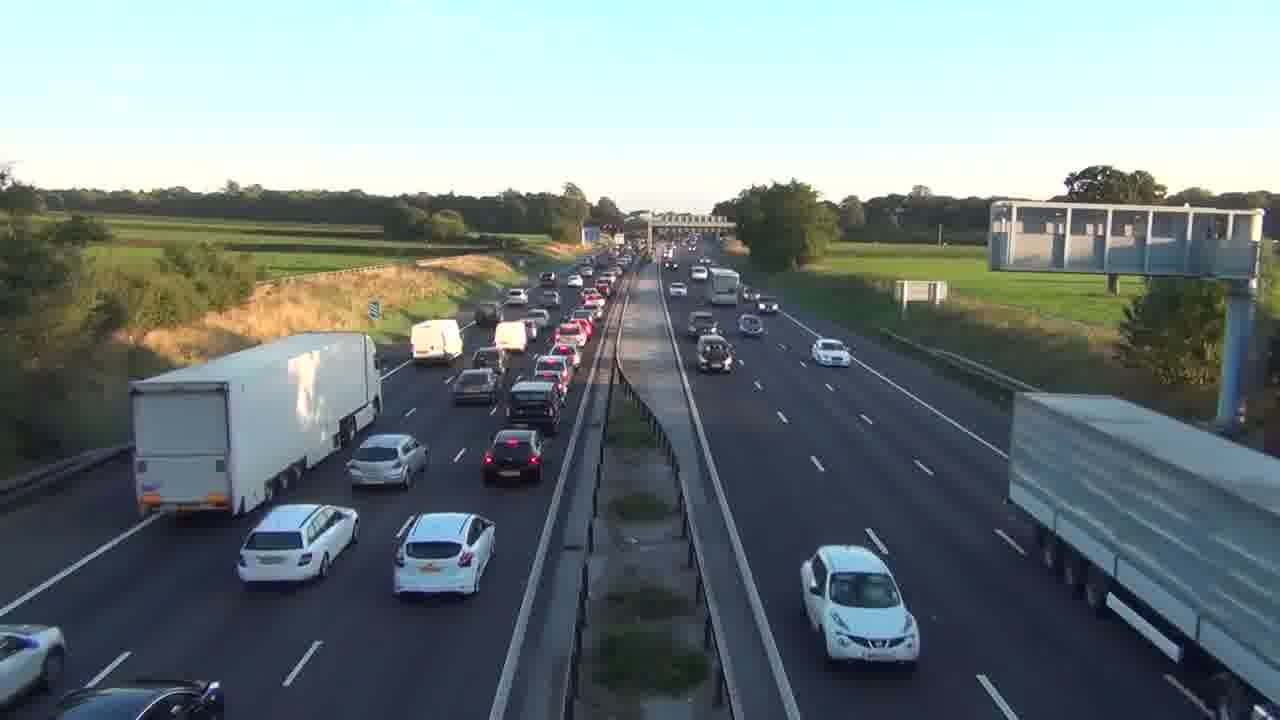car: (800, 530, 921, 666), (236, 502, 359, 586), (392, 511, 497, 600), (59, 679, 225, 719), (0, 622, 68, 708), (344, 432, 430, 489), (482, 427, 545, 485), (507, 378, 561, 436), (447, 367, 499, 406), (811, 338, 853, 367)
truck: (1002, 391, 1279, 711), (130, 332, 384, 520), (410, 318, 463, 367), (707, 266, 740, 307), (492, 319, 528, 352)
